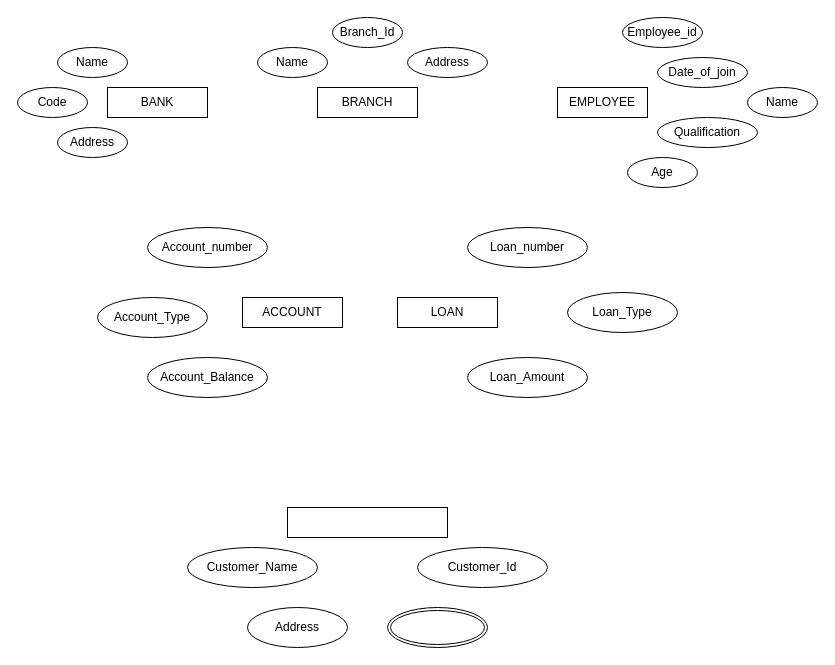
This 835x665 diagram has some shape labels left out. The shapes that lost their labels are listed below. From the top down, each one's centre as x and y in pixels, then its label:
At [367,522]: "CUSTOMERS".
At [437,627]: "Phone".
